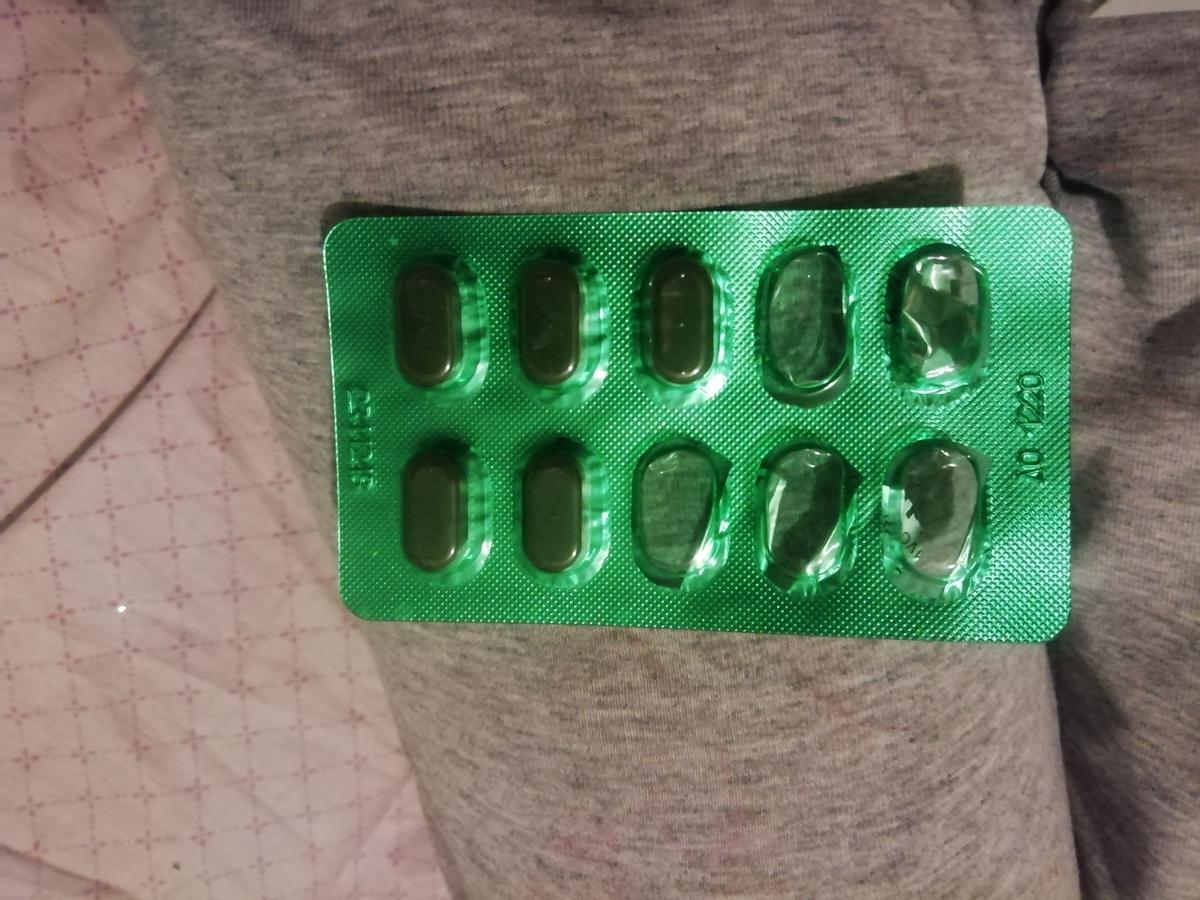tablet: (388, 265, 465, 392), (511, 263, 588, 390), (643, 258, 720, 385), (389, 449, 466, 576), (511, 452, 588, 579)
